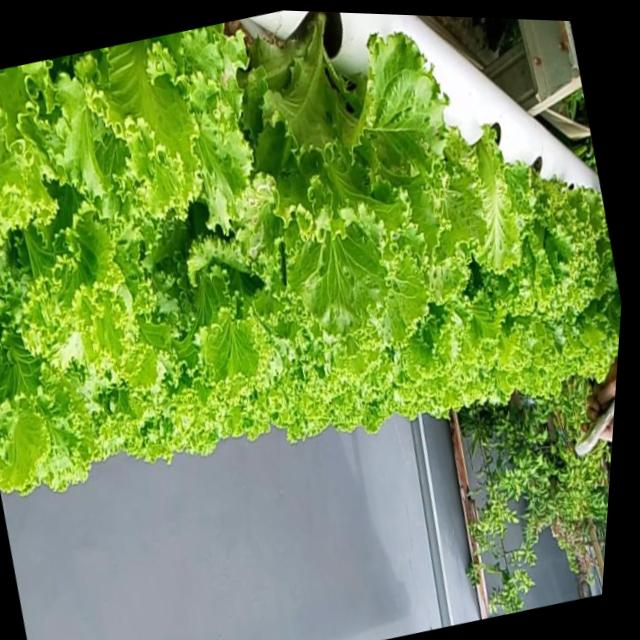Mature: (0, 13, 621, 495), (219, 27, 419, 323), (451, 145, 608, 351)
